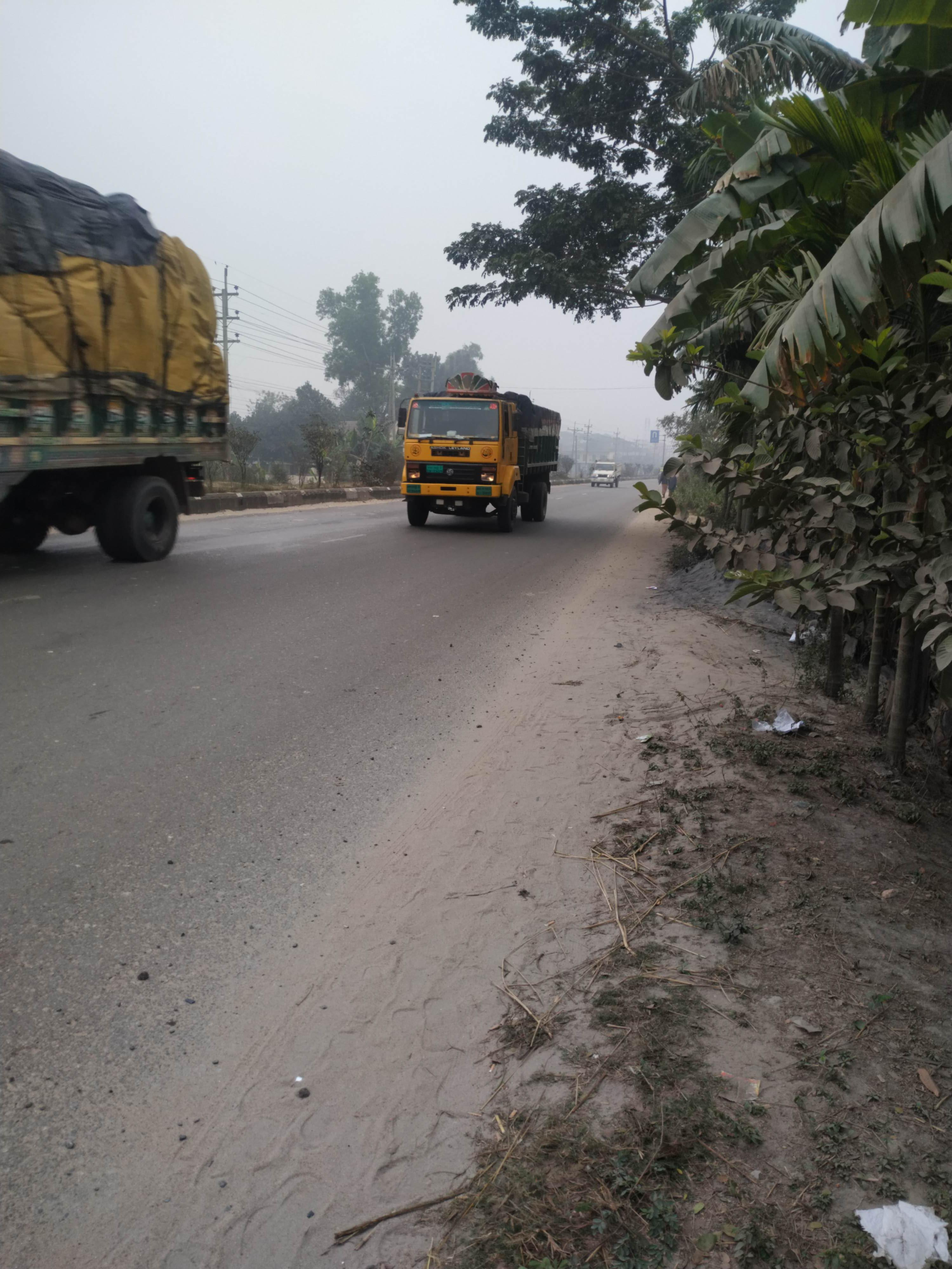Truck: (3, 143, 255, 580), (390, 365, 579, 555), (587, 447, 624, 511)
